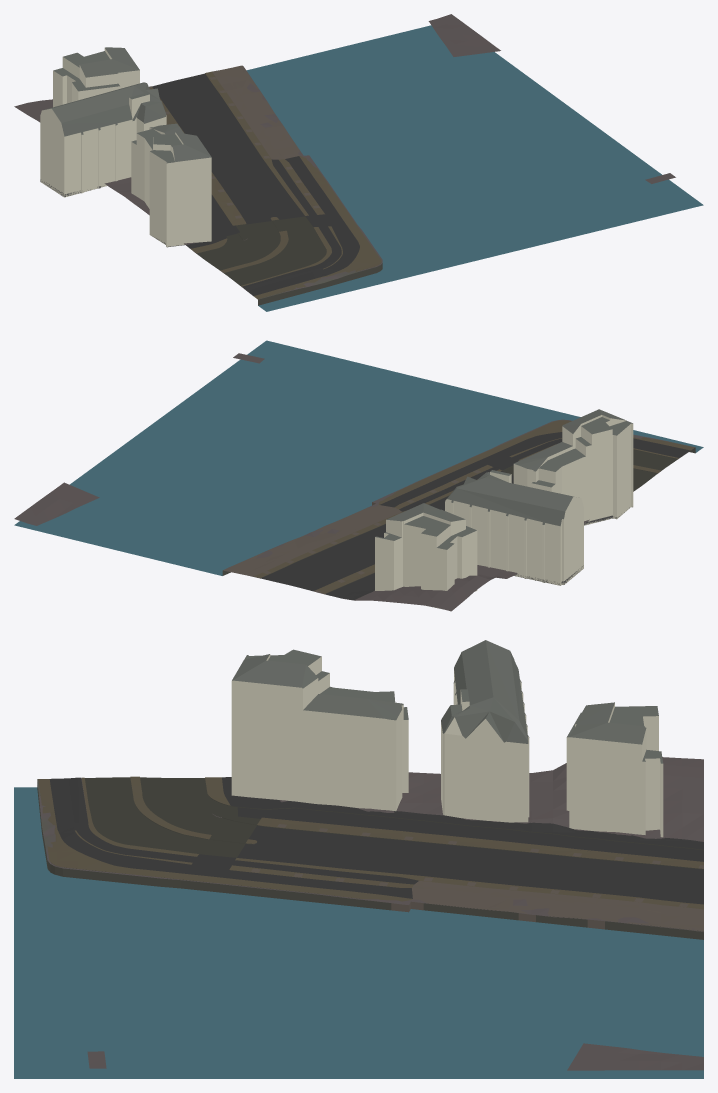
3 views of the same model, one above another, from view 1: azimuth 30°, elevation 25°; view 2: azimuth 150°, elevation 25°; view 3: azimuth 270°, elevation 25° (orthographic). The views are drawn at different scales.
Visible parts, largest first — view 1: c_p03_m01; view 2: c_p03_m01; view 3: c_p03_m01.
Part boxes in pixels (bbox=[...]): c_p03_m01: bbox=[14, 14, 703, 311]; c_p03_m01: bbox=[14, 340, 703, 611]; c_p03_m01: bbox=[14, 640, 703, 1078].
Bounding box in the file's own units: 141 × 27.3 × 128.
